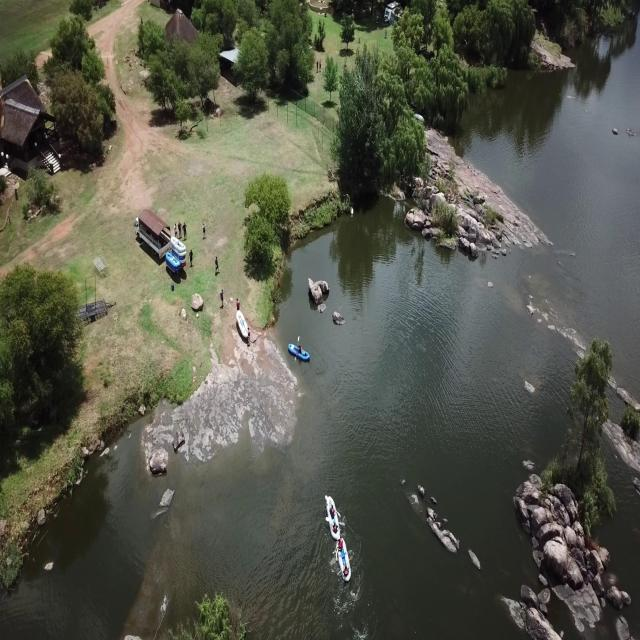kayak: (326, 495, 342, 545), (337, 539, 352, 587), (290, 340, 310, 367)
